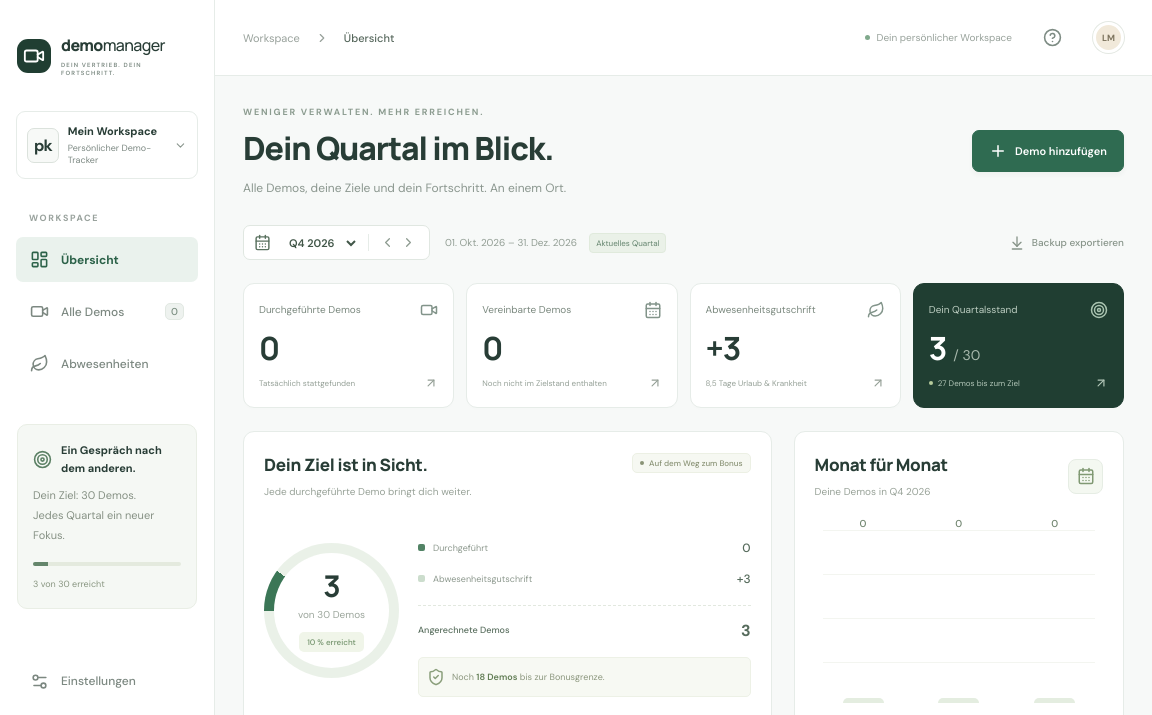
Test: Abwesenheiten erfassen und korrigieren › korrigiert die Art des 5,5-Tage-Eintrags, ohne Tage oder andere Einträge zu verändern
The width and height of the screenshot is (1152, 715).
Click the button "Abwesenheiten" at (107, 364), box [16,341,198,386]
(page scrolled)
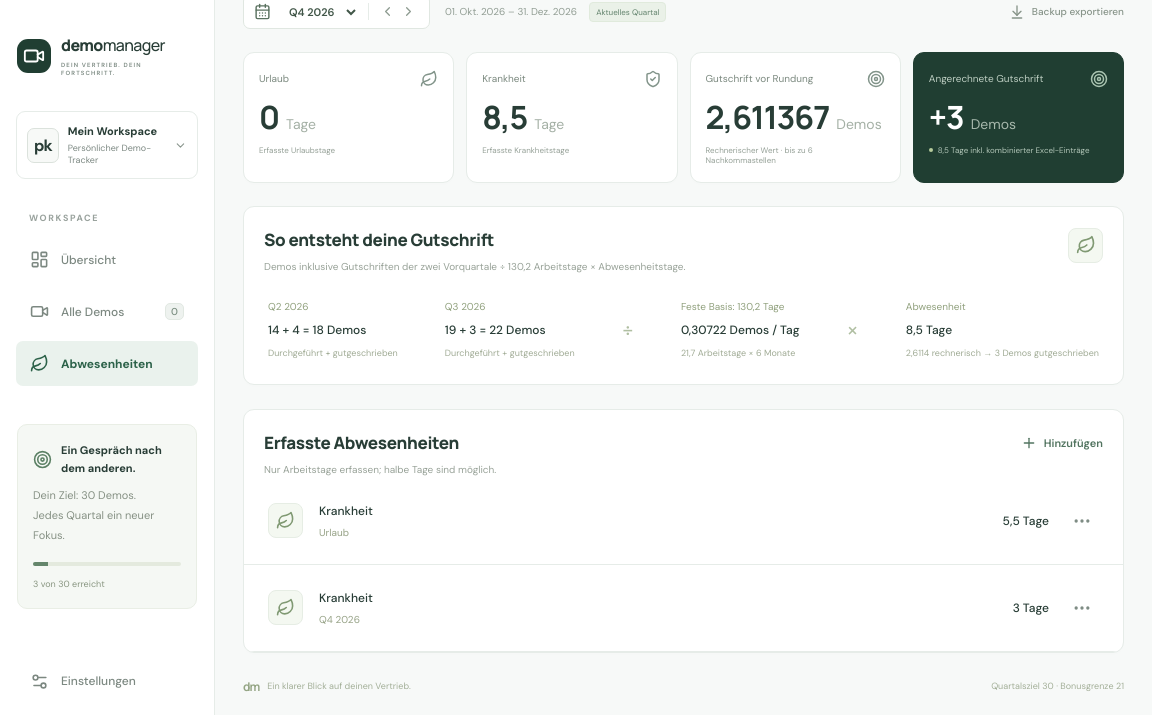
Click the button named "Abwesenheit bearbeiten" in the row of "5,5" at (1082, 521), box [1065,504,1099,538]
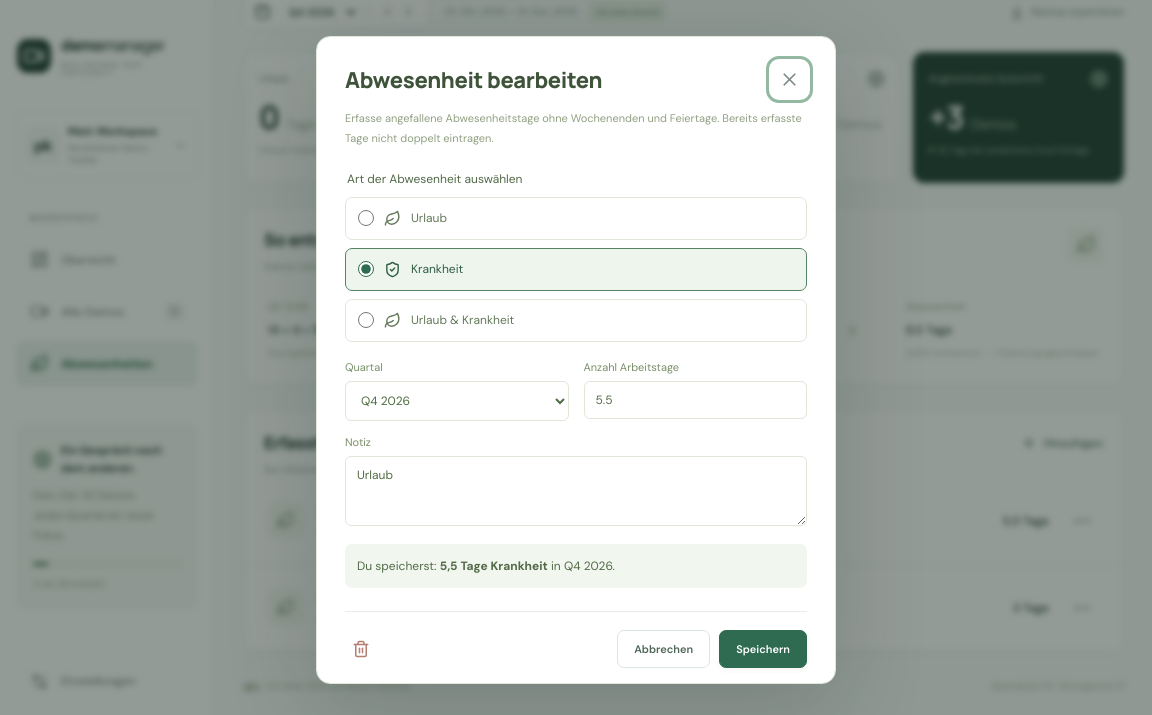
Result: the radio button labelled "Krankheit" is checked at [358,261,374,277]
Click the radio button labelled "Urlaub" at (366, 218), box [358,210,374,226]
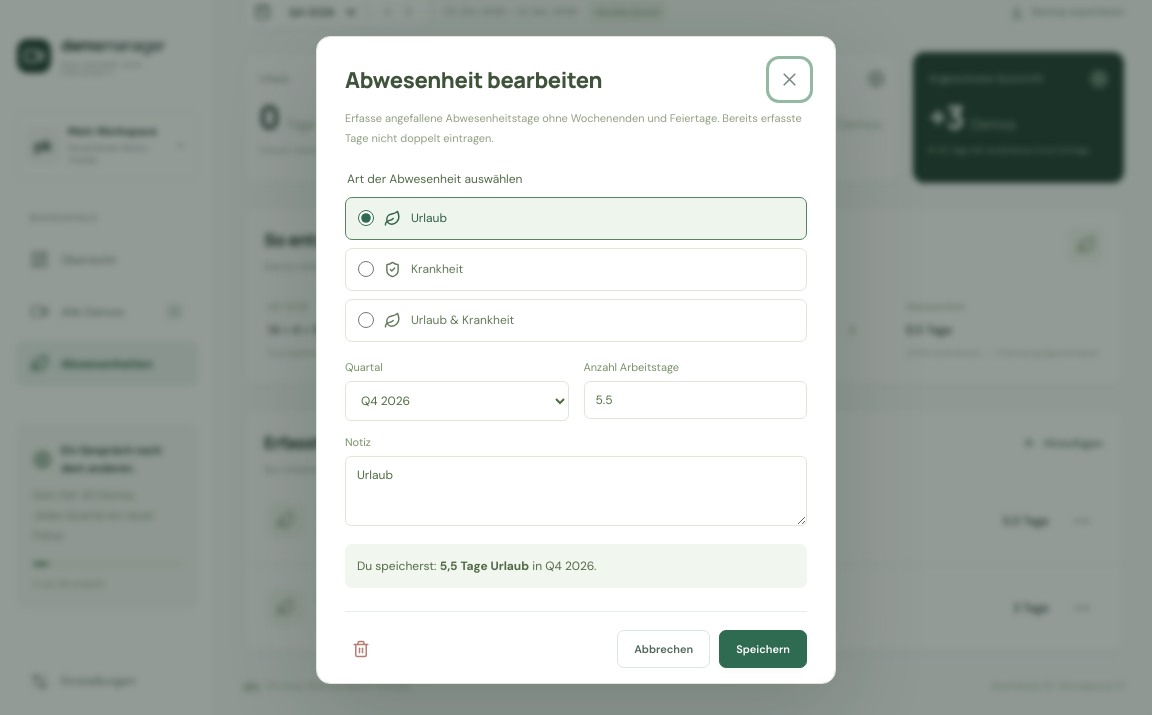
Result: the button "Speichern" is shown
Click the button "Speichern" at (763, 649), box [719,630,807,668]
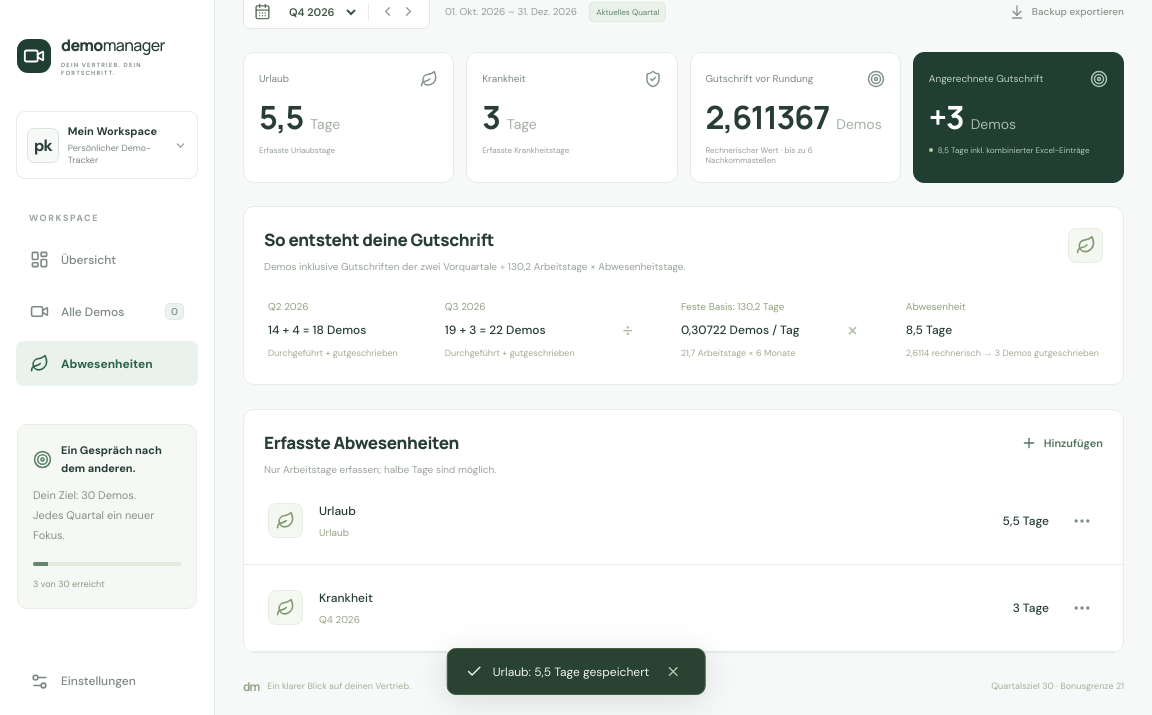
Result: the element with class "stat-value" reads "5,5 Tage" at [259,95,340,139]
Result: the element with class "stat-value" reads "3 Tage" at [482,95,537,139]
Click the button named "Abwesenheit bearbeiten" in the row of "Q4 2026" at (1082, 608), box [1065,591,1099,625]
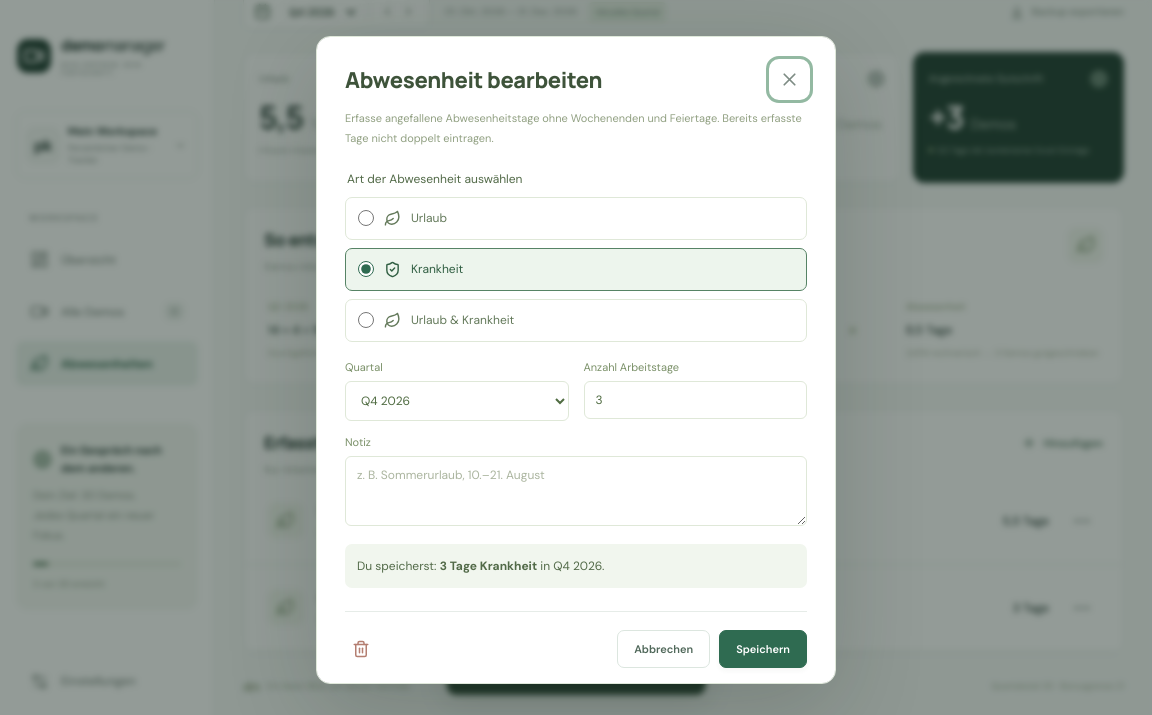
Result: the radio button labelled "Krankheit" is checked at [358,261,374,277]
Result: the number field named "days" holds "3" at [584,381,807,419]
